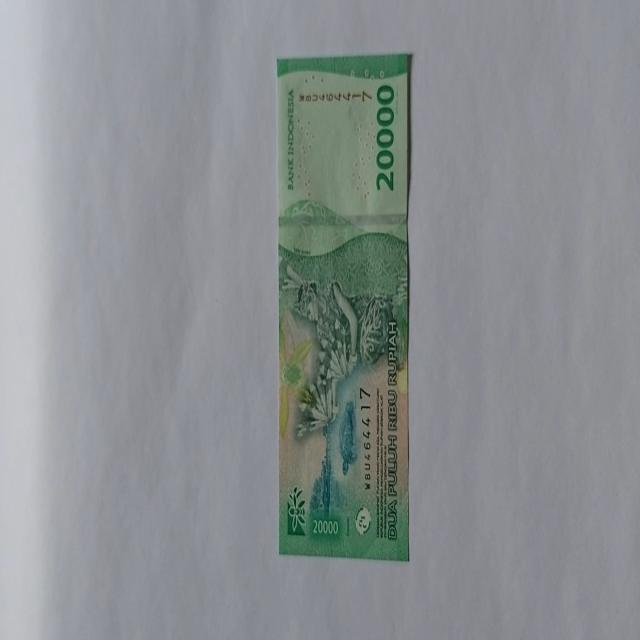dua puluh ribu rupiah: (276, 52, 412, 560), (278, 197, 408, 442)
